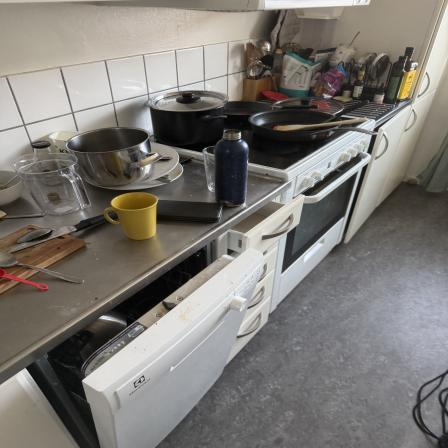blue_bottle: (214, 128, 253, 204)
phone: (139, 195, 230, 226)
yellow_cup: (102, 194, 162, 242)
